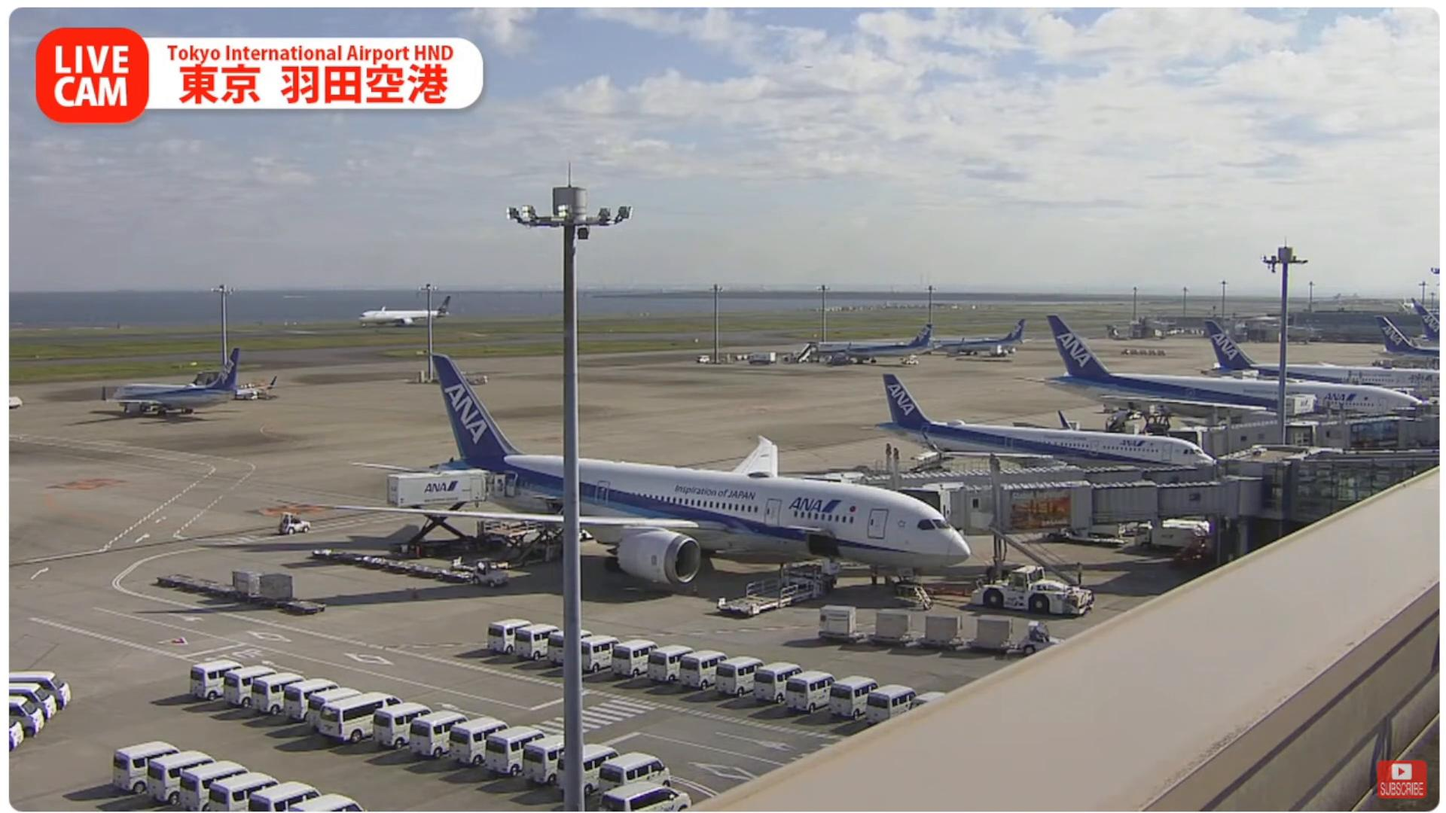APS: (969, 564, 1106, 619)
Aerobridge: (899, 476, 1264, 540), (843, 457, 1217, 496)
Airplane: (330, 354, 973, 599)
Catering: (387, 467, 515, 558)
Dolly: (813, 604, 1019, 651), (157, 564, 332, 616), (311, 544, 470, 586)
JCPL: (714, 553, 842, 618), (481, 516, 567, 568)
Tractor: (1015, 618, 1065, 657), (469, 559, 507, 591), (279, 511, 312, 535)
Window: (1290, 456, 1440, 523)
